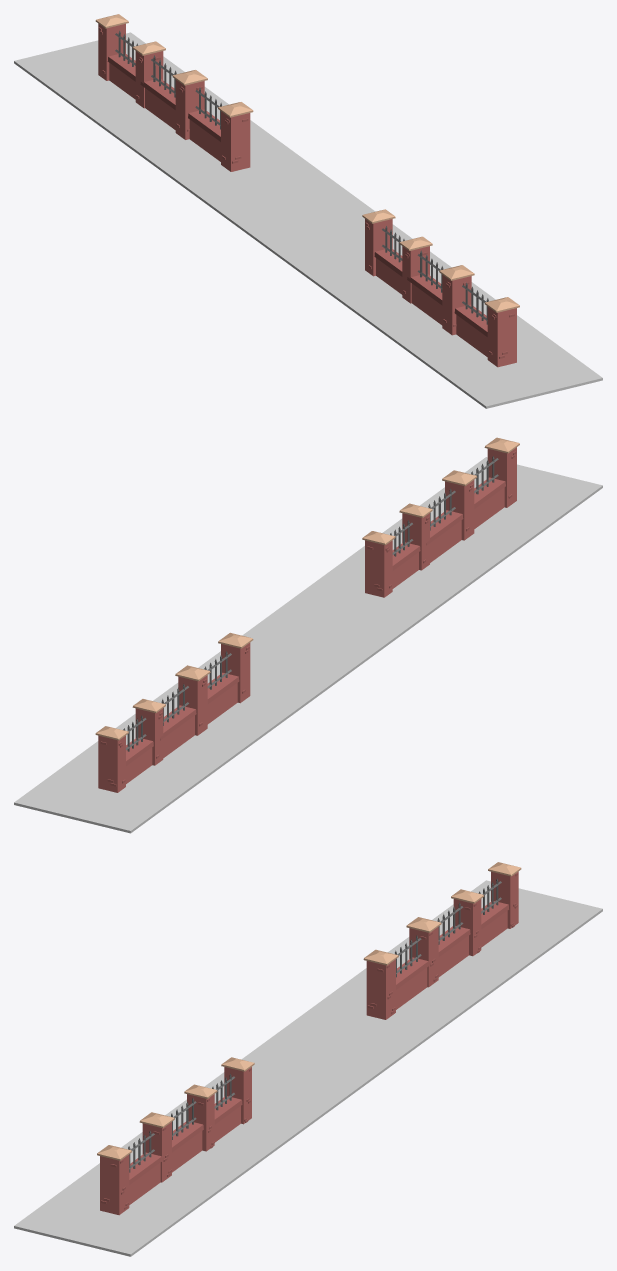
Rendered from cong.glb.
The picture shows the model from 3 angles, top to bottom: view 1: azimuth 30°, elevation 25°; view 2: azimuth 150°, elevation 25°; view 3: azimuth 330°, elevation 25°; orthographic projection.
Parts seen in each view (by area): view 1: Cube, FencePiece.001, FencePiece; view 2: Cube, FencePiece.001, FencePiece; view 3: Cube, FencePiece, FencePiece.001.
Part boxes in pixels (x1,y1,x2,y2): Cube: [14, 32, 602, 408]; FencePiece.001: [95, 14, 253, 171]; FencePiece: [362, 209, 519, 367]; Cube: [14, 457, 602, 833]; FencePiece.001: [95, 632, 253, 792]; FencePiece: [362, 437, 519, 597]; Cube: [14, 880, 602, 1256]; FencePiece: [97, 1057, 254, 1215]; FencePiece.001: [363, 862, 521, 1019].
Bounding box in the file's own units: 10 × 5.17 × 70.
